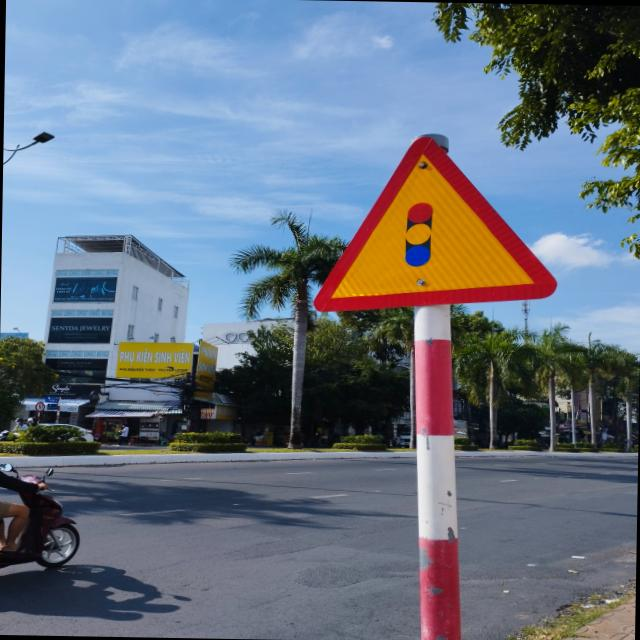Duong_Co_Go_Giam_Toc: (312, 133, 560, 320)
